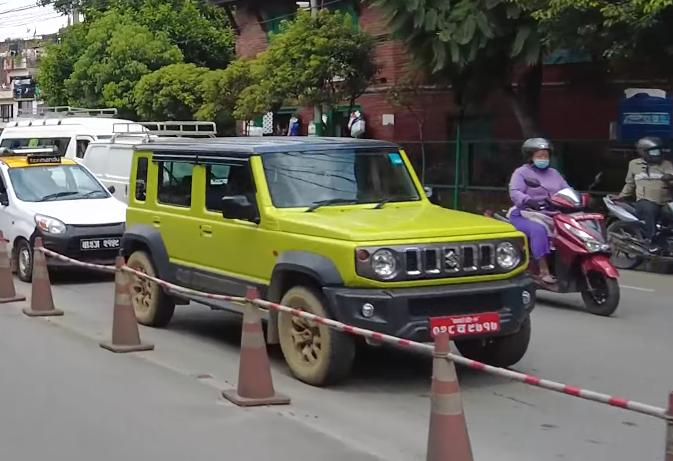SUV: (117, 123, 543, 391)
micro_bus: (0, 113, 157, 155)
scooter: (489, 181, 627, 319)
taxi: (0, 143, 133, 280)
